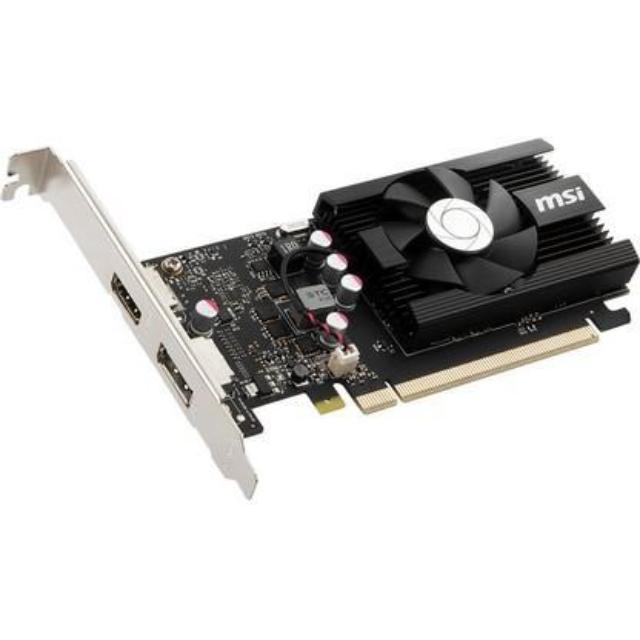GPU: (74, 116, 640, 490)
